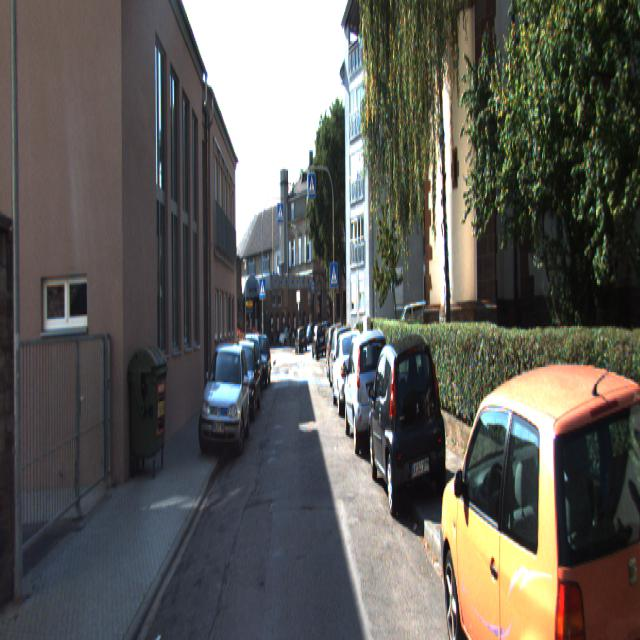Car: (434, 346, 640, 638), (368, 327, 448, 513), (342, 324, 396, 453), (200, 335, 250, 464), (331, 325, 369, 414), (224, 335, 262, 424), (397, 297, 435, 360), (239, 333, 263, 403), (248, 332, 271, 390)
